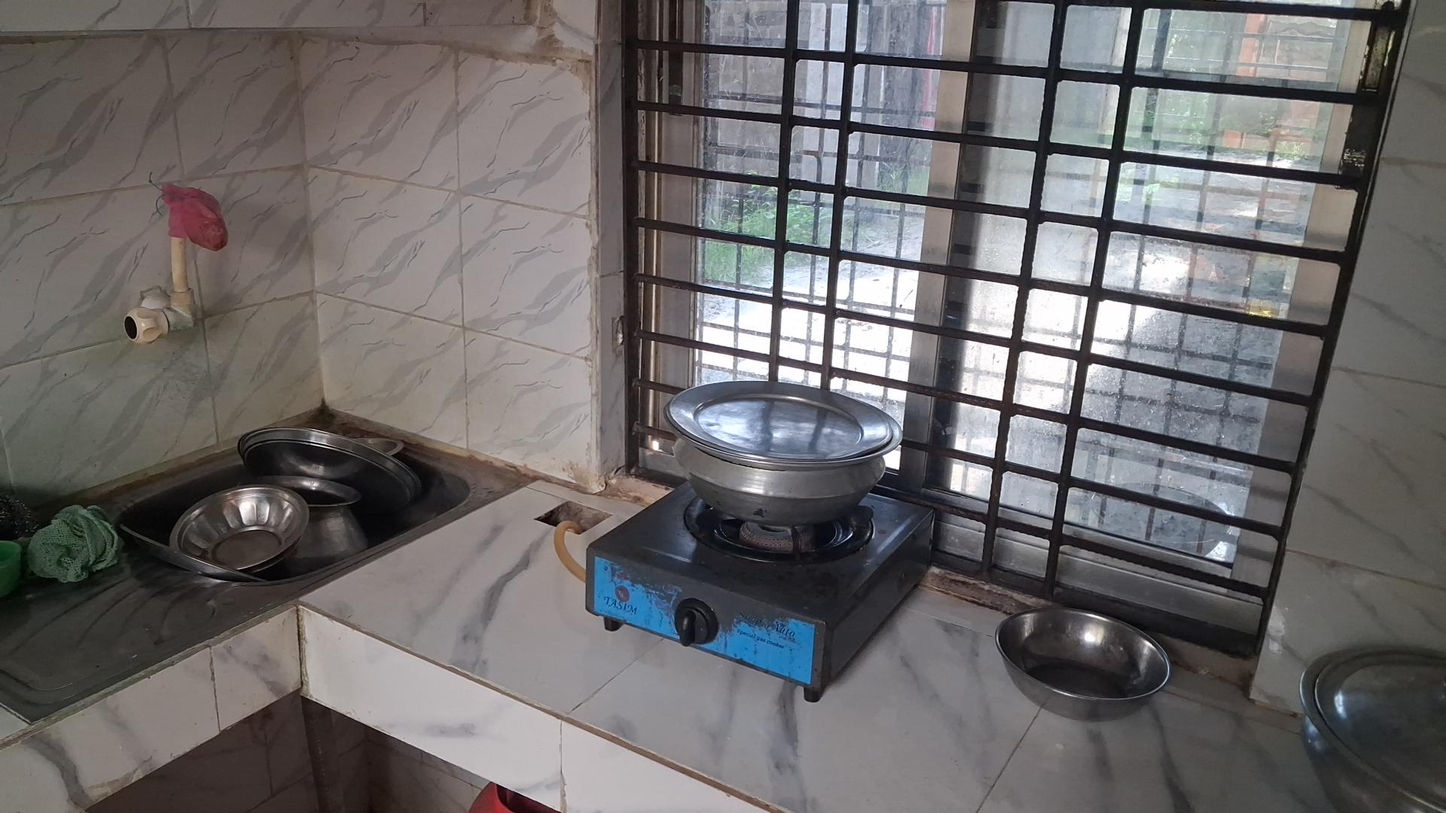Bowl: (995, 606, 1172, 721), (171, 484, 308, 572)
Pot: (666, 377, 902, 531)
Window: (625, 0, 1400, 689)
